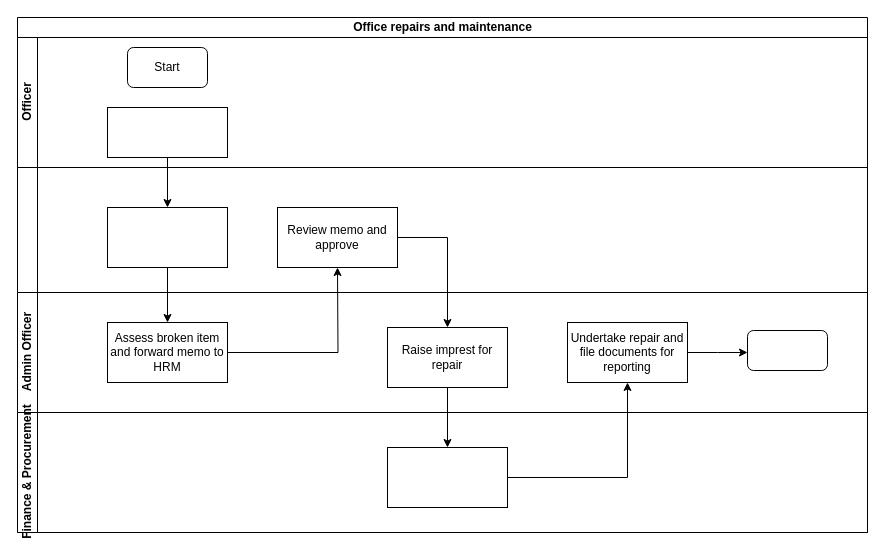
Some shapes in this 885 by 557 pixel diagram are drawn without their labels. Each missing label, with the box of its shape:
An officer report a broken item: (106, 106, 228, 158)
End: (746, 330, 828, 370)
HRM: (16, 166, 868, 292)
Make necessary payment/procurement: (386, 446, 508, 508)
Receive information and assign repair officer: (106, 206, 228, 268)
